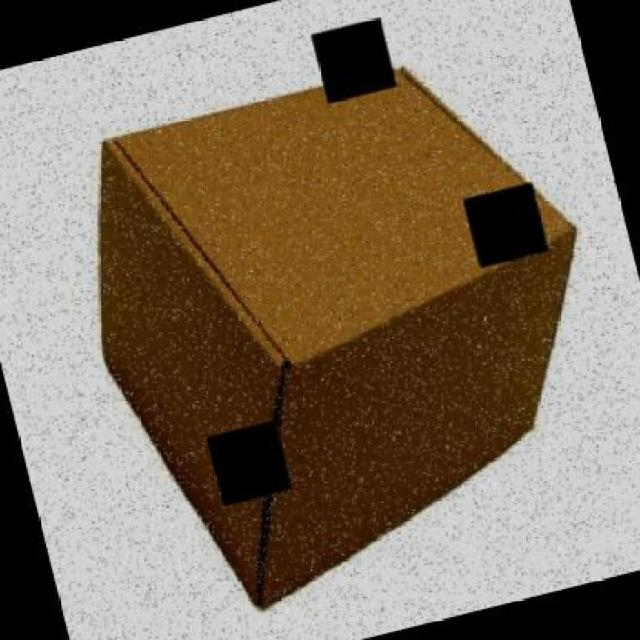box: (51, 32, 640, 634)
